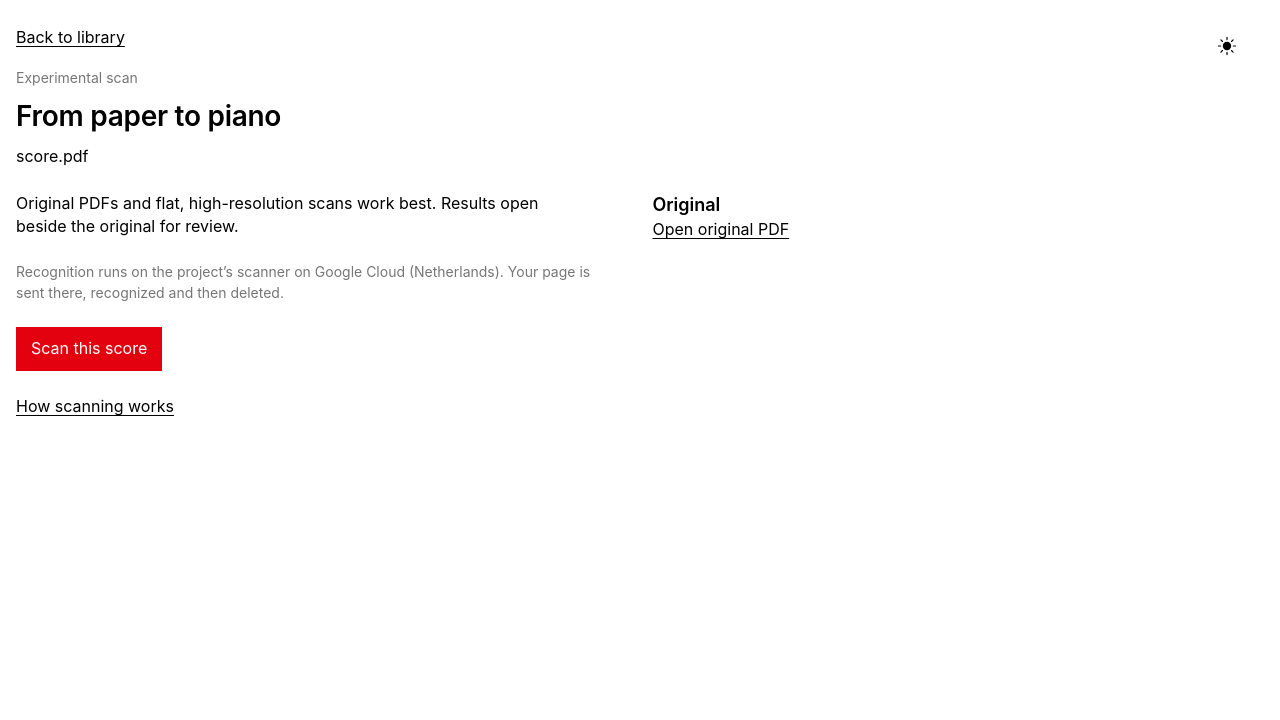
Test: keeps a PDF page's empty warnings empty, whatever the health answer warns of
Click the button "Scan this score" at coordinates (89, 349), box 16,327 -> 162,371
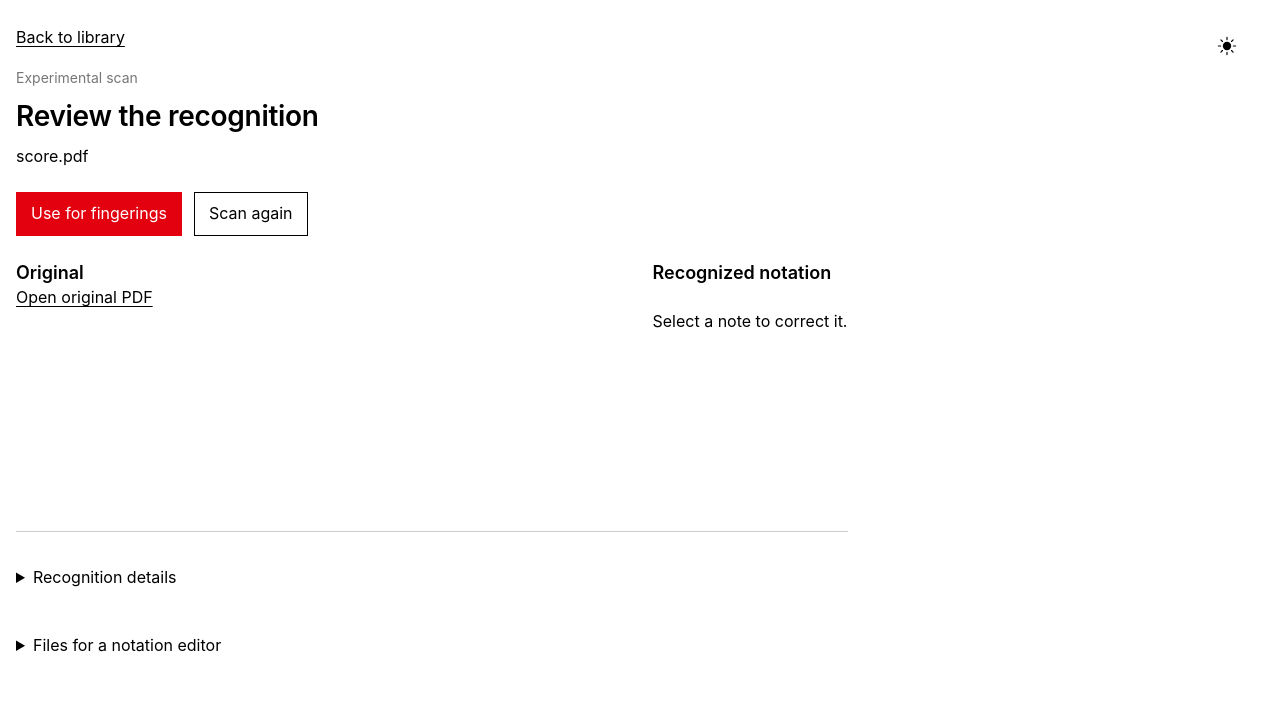
Now the heading "Review the recognition" is shown, box 16,99 -> 319,133
